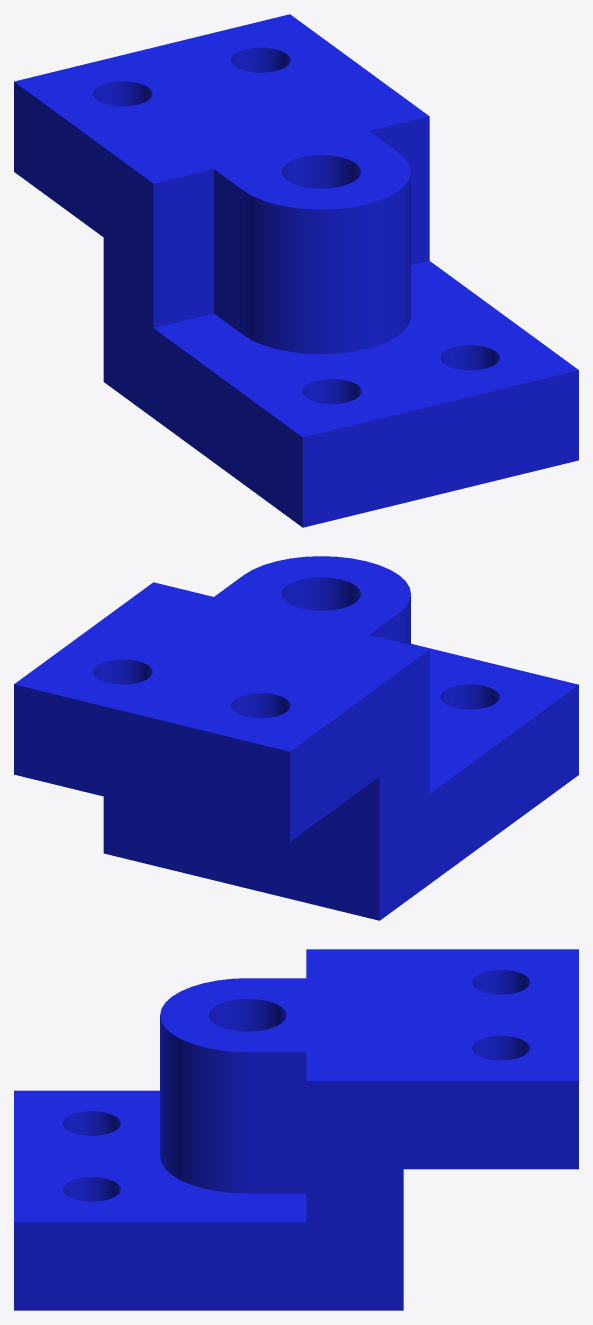
File: asset.glb
The picture shows the model from 3 angles, top to bottom: view 1: azimuth 30°, elevation 25°; view 2: azimuth 150°, elevation 25°; view 3: azimuth 270°, elevation 25°; orthographic projection. The views are drawn at different scales.
Visible parts, largest first — view 1: Solid1; view 2: Solid1; view 3: Solid1.
Boxes of the visible parts, box(x1,y1,x2,y2) form: Solid1: box(14, 14, 578, 527); Solid1: box(14, 556, 578, 920); Solid1: box(14, 949, 578, 1310).
Bounding box in the file's own units: 0.08 × 0.065 × 0.145.
